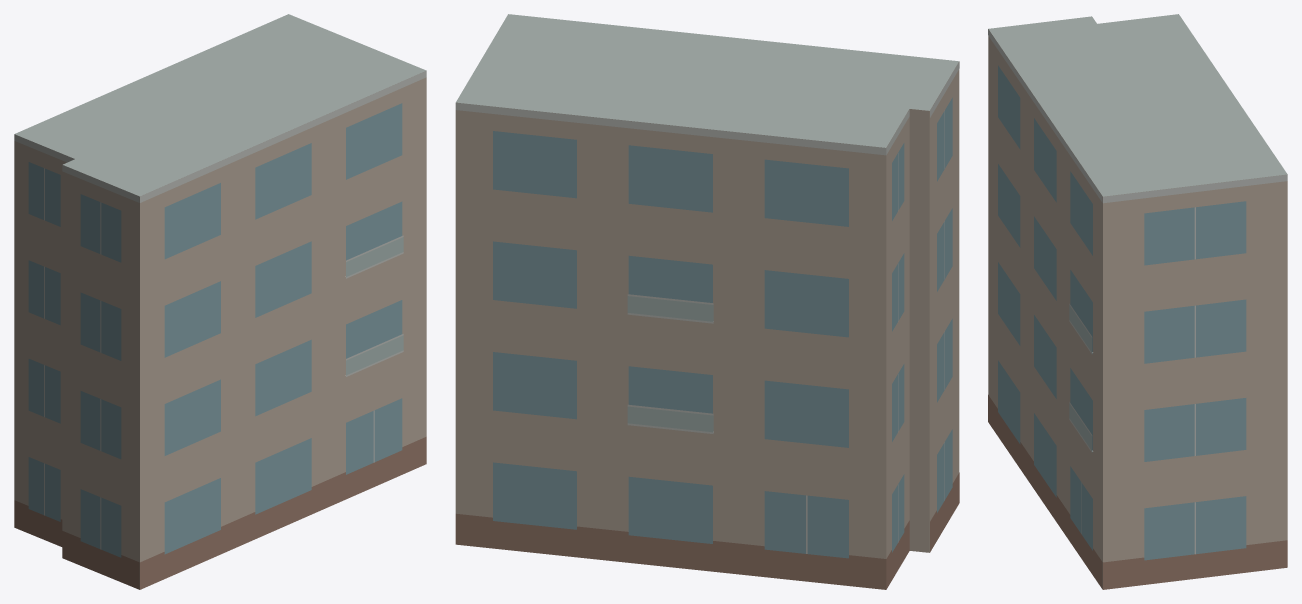
The model's file is survey-upis-33013351.glb.
3 renders of one model, left to right at view 1: azimuth 30°, elevation 25°; view 2: azimuth 150°, elevation 25°; view 3: azimuth 270°, elevation 25°, orthographic. The views are drawn at different scales.
Visible parts, largest first — view 1: survey-upis-33013351.tmp; view 2: survey-upis-33013351.tmp; view 3: survey-upis-33013351.tmp.
Boxes of the visible parts, left/top/right/bottom form: survey-upis-33013351.tmp: left=14, top=14, right=426, bottom=589; survey-upis-33013351.tmp: left=455, top=14, right=959, bottom=589; survey-upis-33013351.tmp: left=988, top=14, right=1287, bottom=589.
Size of the model in its own units: 14.35 by 14.4 by 9.95.
